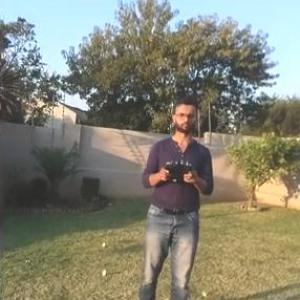follow: (136, 81, 222, 299)
